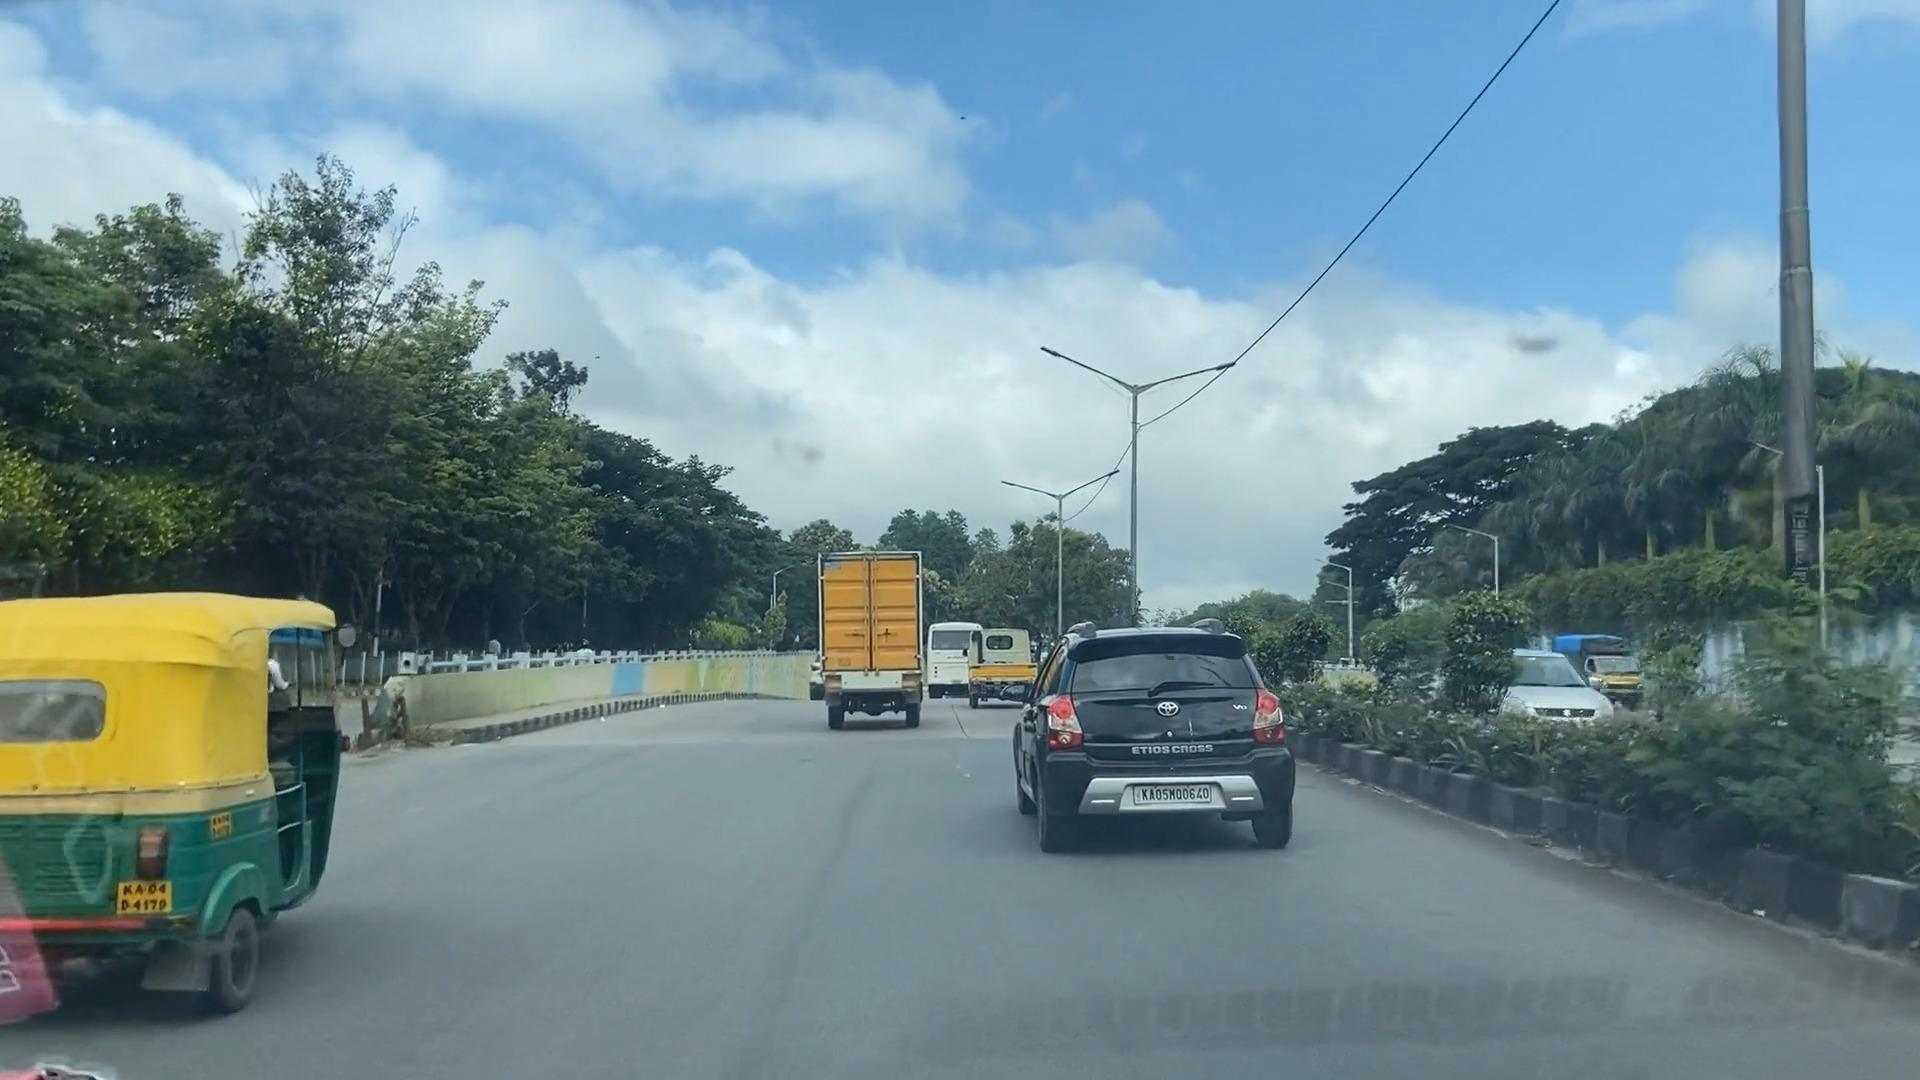HMV: (822, 556, 918, 716)
LMV: (0, 601, 332, 1007), (1009, 620, 1291, 848)
